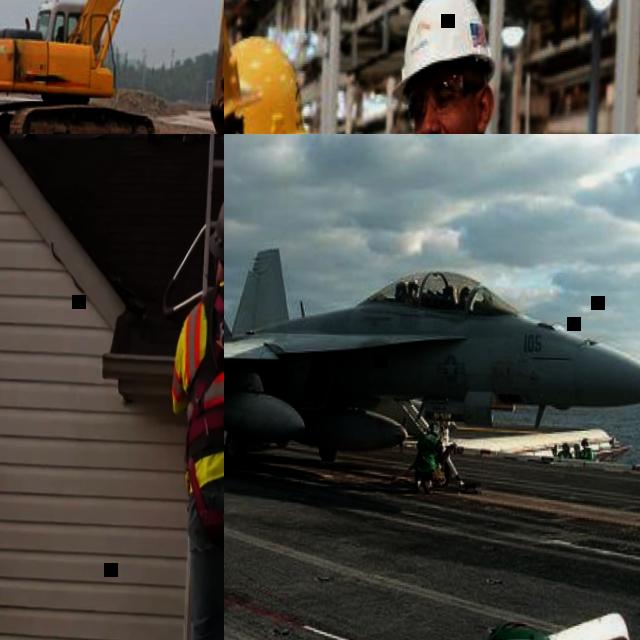Hardhat: (389, 0, 500, 105), (225, 32, 328, 134), (207, 191, 224, 267), (429, 423, 439, 433), (582, 439, 590, 447), (562, 443, 571, 450)
NO-Mask: (416, 114, 479, 134)
NO-Safety Vest: (413, 421, 459, 495), (415, 433, 440, 472)
Person: (344, 0, 595, 134), (160, 185, 224, 640), (224, 28, 372, 134), (144, 134, 202, 146), (579, 439, 594, 460), (559, 445, 573, 459), (55, 28, 64, 44)
Safety Vest: (170, 285, 224, 464)
vehicle: (0, 0, 224, 134)
